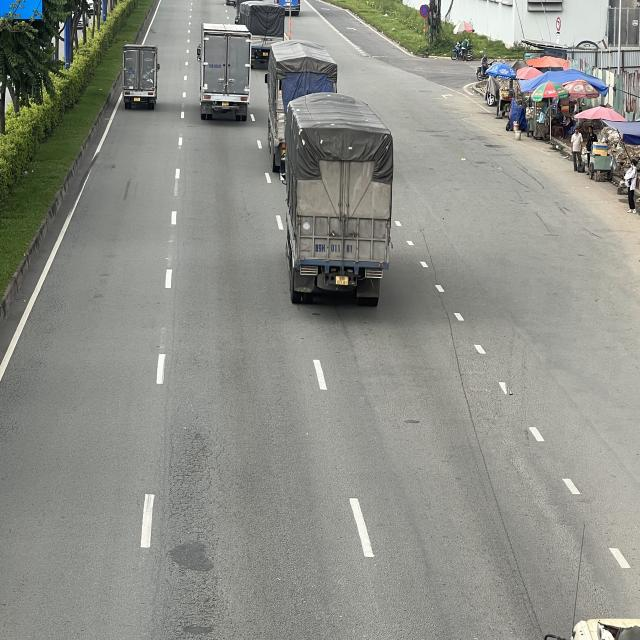truck: (284, 89, 394, 307), (266, 41, 338, 166), (198, 24, 252, 121), (237, 0, 283, 63), (122, 46, 159, 111)
